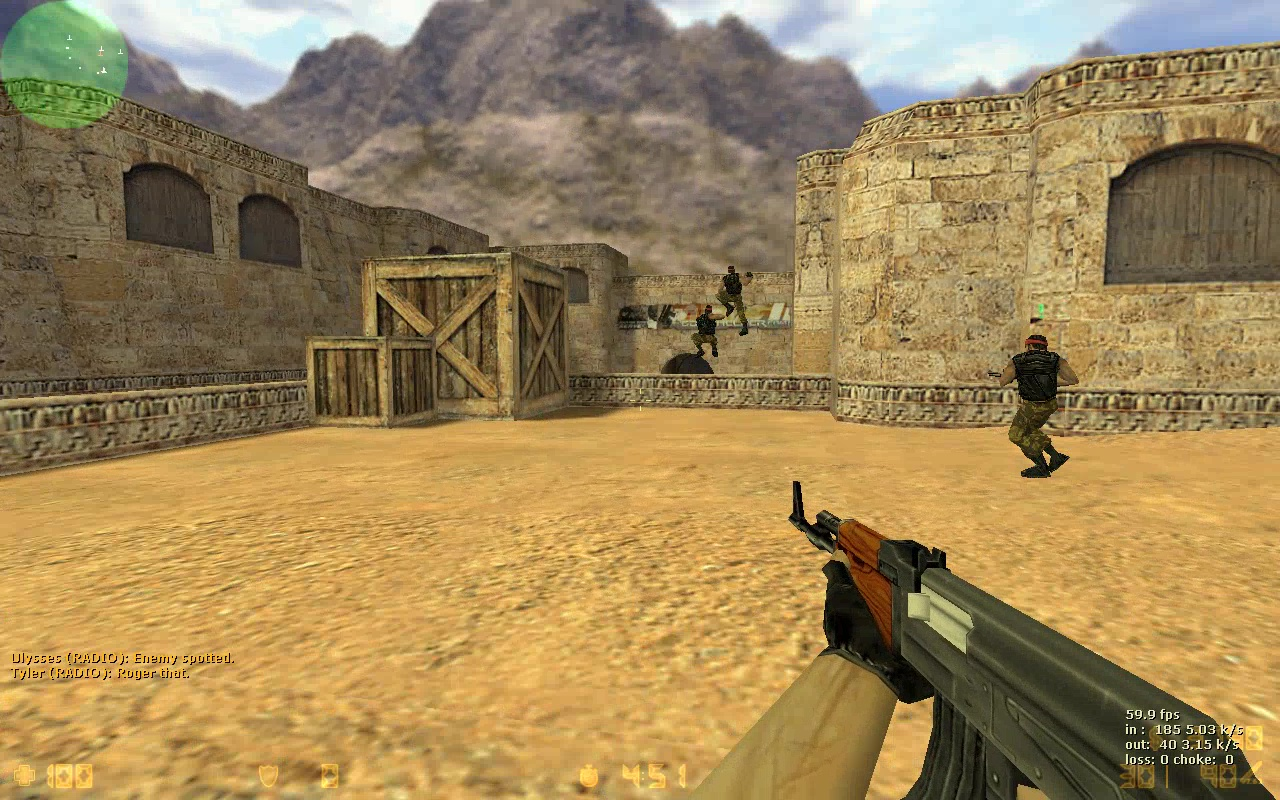terr1: (984, 334, 1083, 479), (713, 266, 755, 338), (690, 303, 722, 357)
